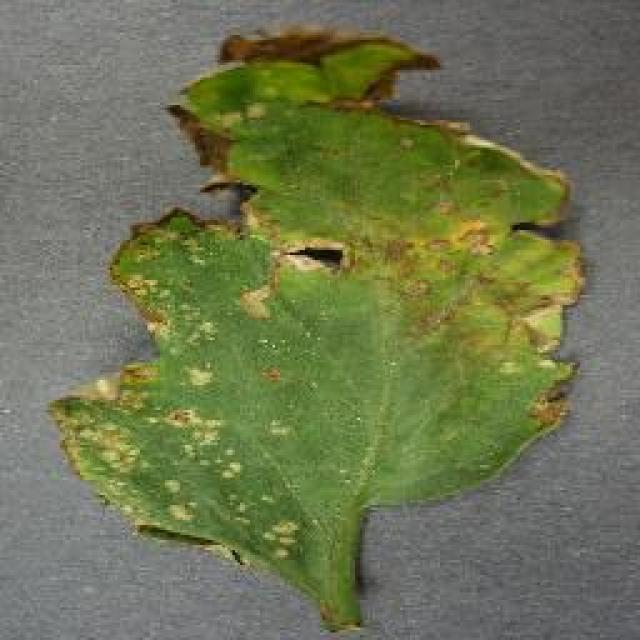Tomato bacterial spot leaf: (48, 21, 602, 578)
